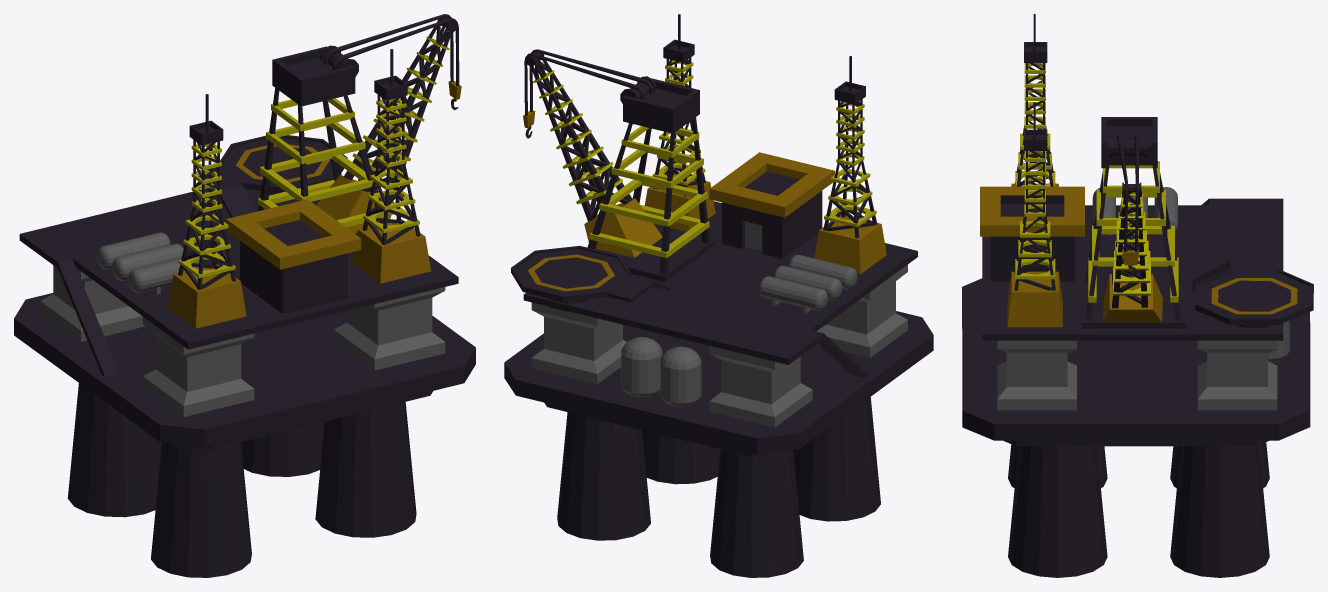
Rendered from Sonda Offshore Convencional.fbx.
3 renders of one model, left to right at view 1: azimuth 30°, elevation 25°; view 2: azimuth 150°, elevation 25°; view 3: azimuth 270°, elevation 25°, orthographic. The views are drawn at different scales.
Parts seen in each view (by area): view 1: Sonda Offshore Convencional; view 2: Sonda Offshore Convencional; view 3: Sonda Offshore Convencional.
Part boxes in pixels (x1=…): Sonda Offshore Convencional: x1=14, y1=14, x2=475, y2=577; Sonda Offshore Convencional: x1=504, y1=14, x2=933, y2=577; Sonda Offshore Convencional: x1=962, y1=14, x2=1313, y2=577.
Size of the model in its own units: 81.04 by 99.36 by 68.69.
